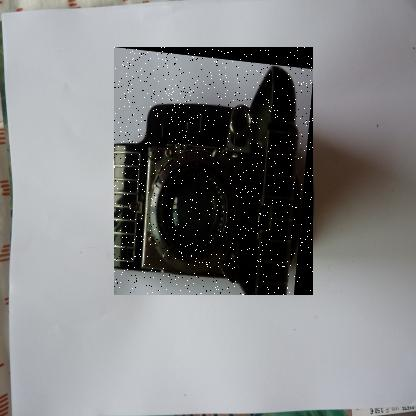Camera: (115, 48, 315, 297)
